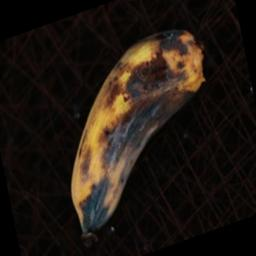Banana Rotten: (61, 7, 202, 256)
